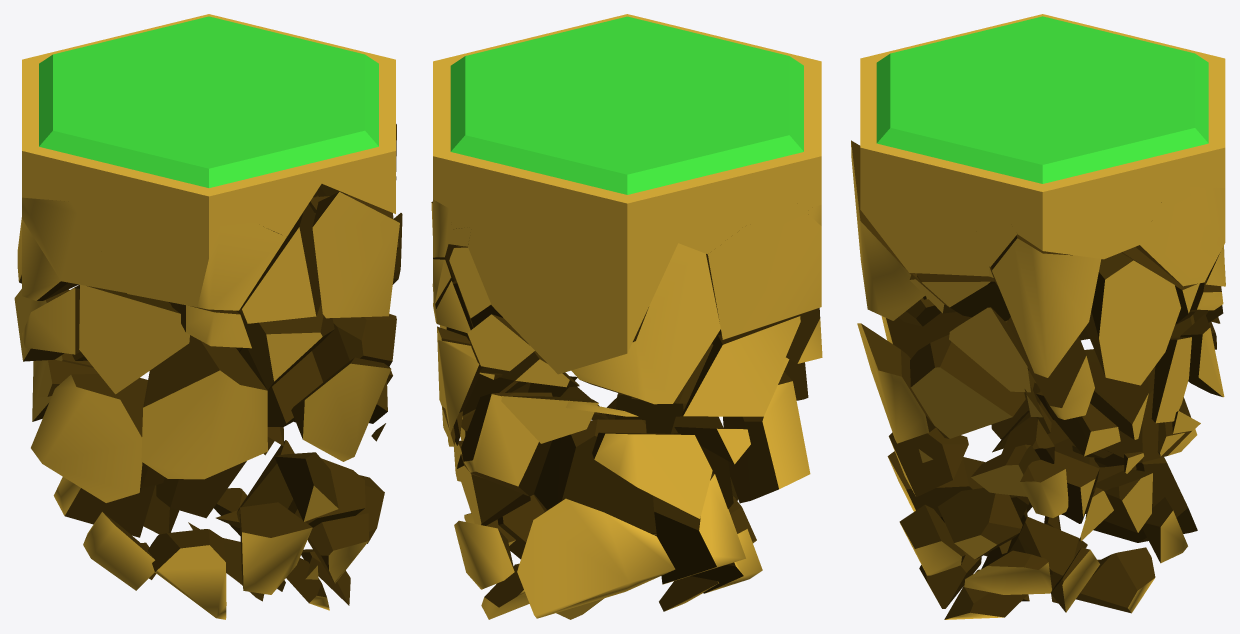
The model's file is tile-transformed.glb.
3 renders of one model, left to right at view 1: azimuth 30°, elevation 25°; view 2: azimuth 150°, elevation 25°; view 3: azimuth 270°, elevation 25°, orthographic. The views are drawn at different scales.
Parts seen in each view (by area): view 1: Base.001_cell.001_cell.003, Grass, Cylinder; view 2: Base.001_cell.001_cell.003, Grass, Cylinder; view 3: Base.001_cell.001_cell.003, Grass, Cylinder.
Boxes of the visible parts, box(x1,y1,x2,y2) form: Base.001_cell.001_cell.003: box(14, 124, 402, 619); Grass: box(39, 16, 378, 187); Cylinder: box(22, 14, 395, 307); Base.001_cell.001_cell.003: box(431, 199, 822, 619); Grass: box(450, 16, 803, 194); Cylinder: box(433, 14, 821, 374); Base.001_cell.001_cell.003: box(851, 140, 1225, 619); Grass: box(876, 16, 1208, 183); Cylinder: box(860, 14, 1225, 276).
Bounding box in the file's own units: 2 × 2.59 × 1.78.
